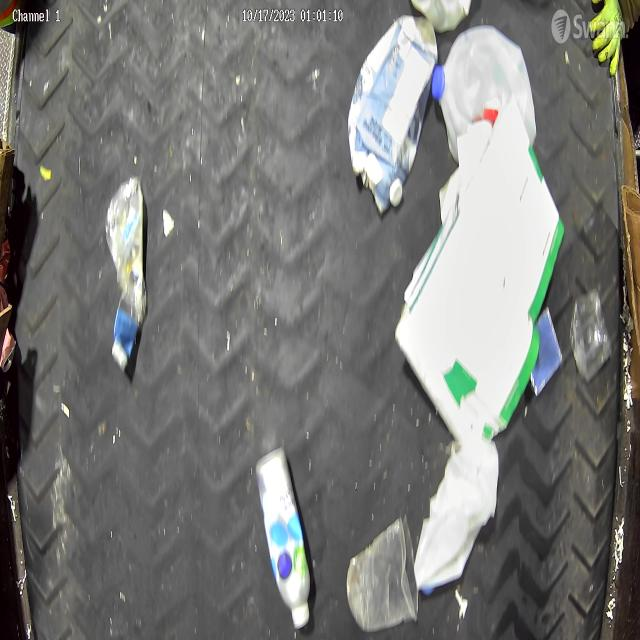milk_jug: (431, 23, 541, 161), (414, 440, 498, 598)
non_white_jug: (348, 17, 437, 215)
plastic_bottle: (109, 182, 148, 372)
